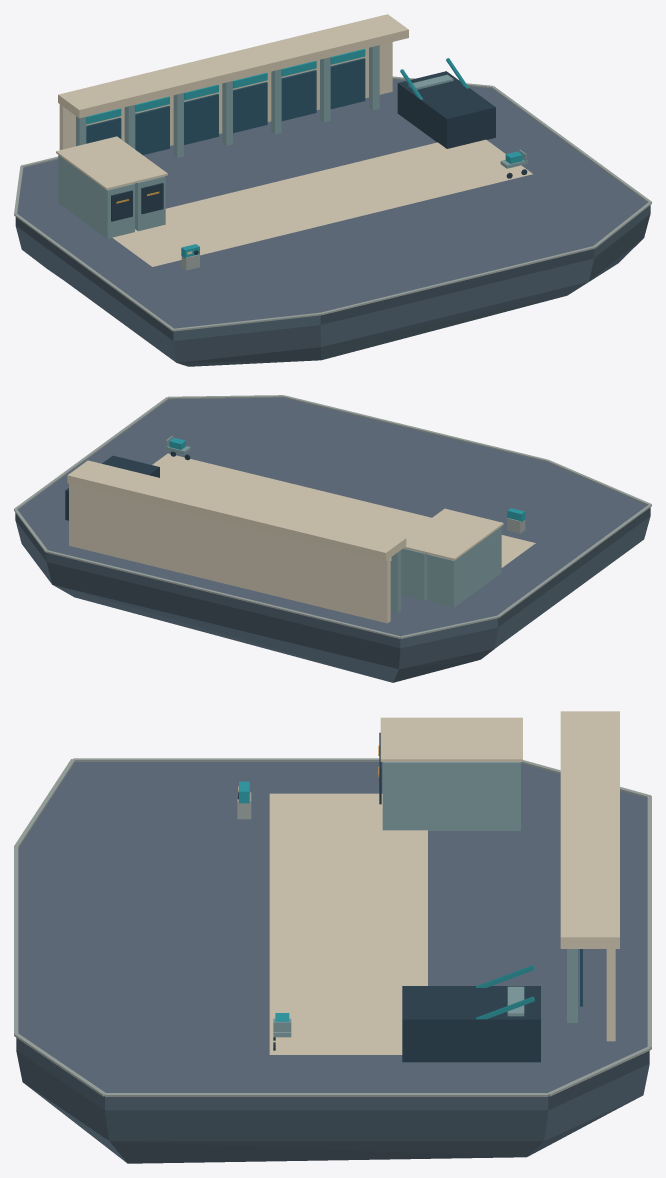
File: fi15-underground-relay.glb
The picture shows the model from 3 angles, top to bottom: view 1: azimuth 30°, elevation 25°; view 2: azimuth 150°, elevation 25°; view 3: azimuth 270°, elevation 25°; orthographic projection. The views are drawn at different scales.
Visible parts, largest first — view 1: GEO_ground, LAND_0_arcade, GEO_foundation, GEO_forecourt, LAND_1_transmitter, LAND_2_escalator, GEO_rim; view 2: GEO_ground, LAND_0_arcade, GEO_foundation, LAND_1_transmitter, GEO_forecourt, GEO_rim, LAND_2_escalator, PROP_radio; view 3: GEO_ground, GEO_forecourt, GEO_foundation, LAND_1_transmitter, LAND_0_arcade, LAND_2_escalator, GEO_rim.
Part boxes in pixels (left/top/right/bottom): GEO_ground: left=17, top=79, right=647, bottom=328; LAND_0_arcade: left=58, top=14, right=408, bottom=157; GEO_foundation: left=15, top=205, right=650, bottom=366; GEO_forecourt: left=112, top=139, right=532, bottom=266; LAND_1_transmitter: left=56, top=136, right=167, bottom=239; LAND_2_escalator: left=397, top=58, right=495, bottom=148; GEO_rim: left=14, top=76, right=651, bottom=331; GEO_ground: left=18, top=397, right=647, bottom=636; LAND_0_arcade: left=67, top=460, right=406, bottom=623; GEO_foundation: left=15, top=507, right=650, bottom=682; LAND_1_transmitter: left=401, top=508, right=503, bottom=607; GEO_forecourt: left=152, top=453, right=535, bottom=567; GEO_rim: left=14, top=395, right=651, bottom=638; LAND_2_escalator: left=65, top=455, right=159, bottom=520; PROP_radio: left=507, top=508, right=525, bottom=533; GEO_ground: left=18, top=762, right=647, bottom=1092; GEO_forecourt: left=269, top=793, right=427, bottom=1054; GEO_foundation: left=16, top=1038, right=649, bottom=1163; LAND_1_transmitter: left=378, top=717, right=522, bottom=830; LAND_0_arcade: left=560, top=711, right=619, bottom=1041; LAND_2_escalator: left=402, top=965, right=540, bottom=1062; GEO_rim: left=14, top=758, right=651, bottom=1096.
Size of the model in its own units: 40.22 by 10.52 by 32.22.
